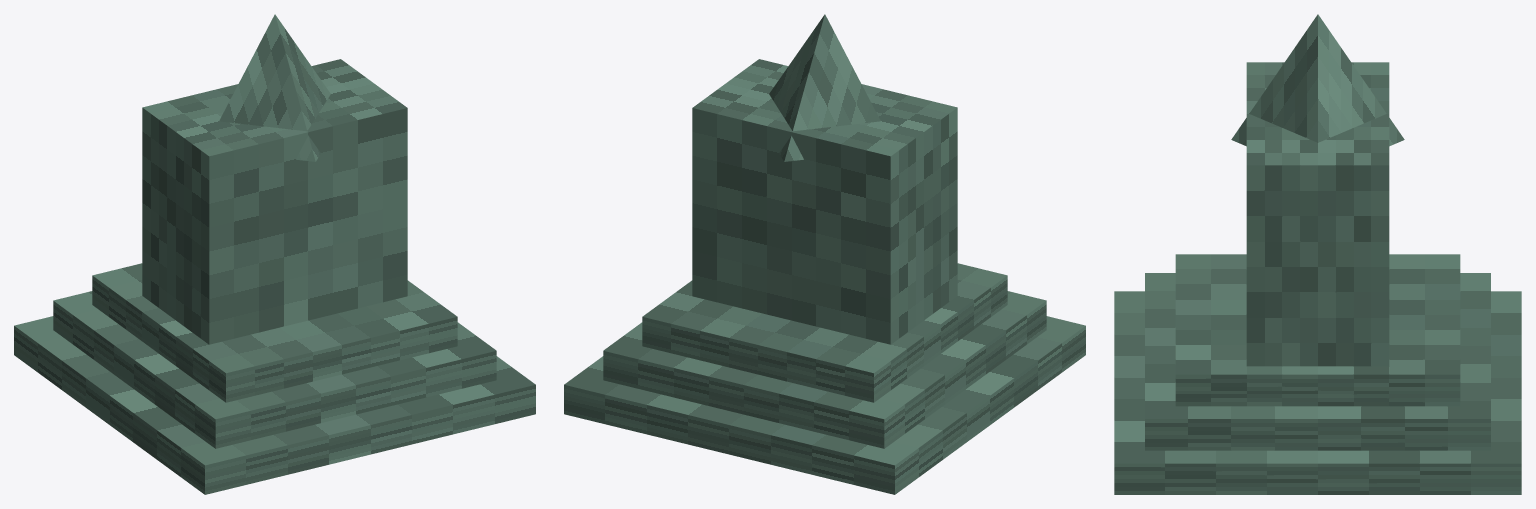
The model's file is shrine_58.glb.
3 views of the same model, side by side, from view 1: azimuth 30°, elevation 25°; view 2: azimuth 150°, elevation 25°; view 3: azimuth 270°, elevation 25° (orthographic). The views are drawn at different scales.
Parts seen in each view (by area): view 1: Altar, Base, Base.001, Base.002, SacredSpire; view 2: Altar, Base, Base.001, Base.002, SacredSpire; view 3: Altar, Base, Base.002, Base.001, SacredSpire.
Boxes of the visible parts, x1,y1,x2,y2 form: Altar: (142, 59, 407, 344); Base: (14, 316, 535, 494); Base.001: (53, 291, 496, 448); Base.002: (92, 263, 457, 402); SacredSpire: (219, 14, 330, 161); Altar: (692, 59, 957, 344); Base: (564, 316, 1085, 494); Base.001: (603, 291, 1046, 448); Base.002: (642, 263, 1007, 402); SacredSpire: (769, 14, 880, 161); Altar: (1246, 62, 1389, 366); Base: (1114, 291, 1521, 494); Base.002: (1175, 254, 1460, 406); Base.001: (1145, 273, 1490, 450); SacredSpire: (1231, 14, 1404, 146).
Bounding box in the file's own units: 2.34 × 2.51 × 2.34.
1 material, 1 textured.
